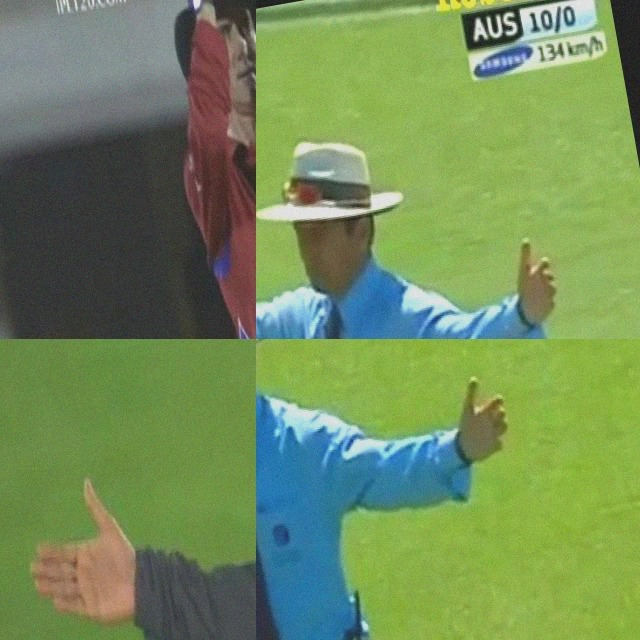No_Ball: (256, 339, 569, 640), (0, 339, 256, 640)
Six: (125, 0, 256, 339)
Wide: (256, 89, 616, 339)
